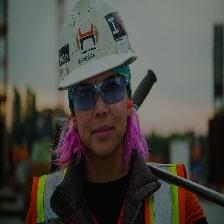Person: (26, 1, 209, 224)
helmet: (57, 1, 135, 87)
vest: (33, 163, 187, 224)
